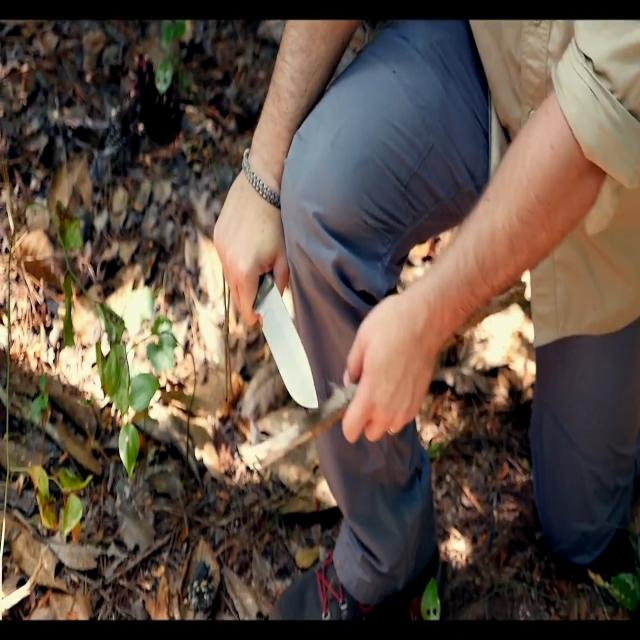knife: (254, 273, 322, 415)
